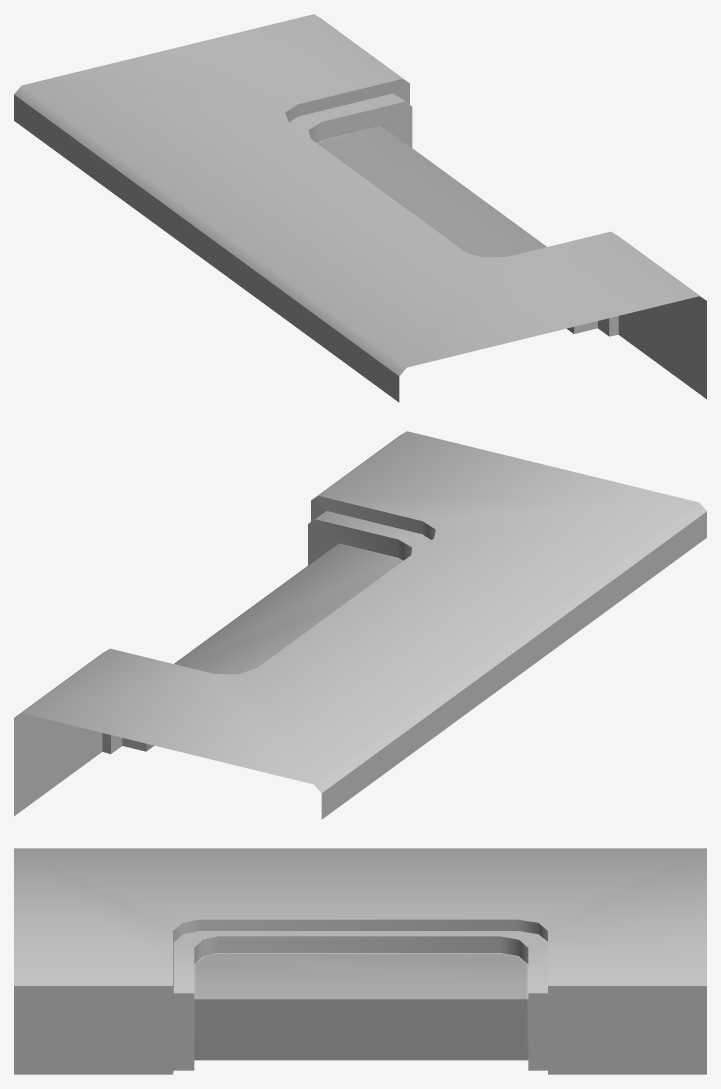
The model's file is Curb_2.FBX.
3 renders of one model, top to bottom at view 1: azimuth 30°, elevation 25°; view 2: azimuth 150°, elevation 25°; view 3: azimuth 270°, elevation 25°, orthographic. The views are drawn at different scales.
Visible parts, largest first — view 1: Curb_2; view 2: Curb_2; view 3: Curb_2.
Part boxes in pixels (x1,y1,x2,y2): Curb_2: (14, 14, 706, 402); Curb_2: (14, 431, 706, 819); Curb_2: (14, 848, 706, 1074).
Size of the model in its own units: 32.27 by 10.54 by 70.
1 material, 1 textured.
